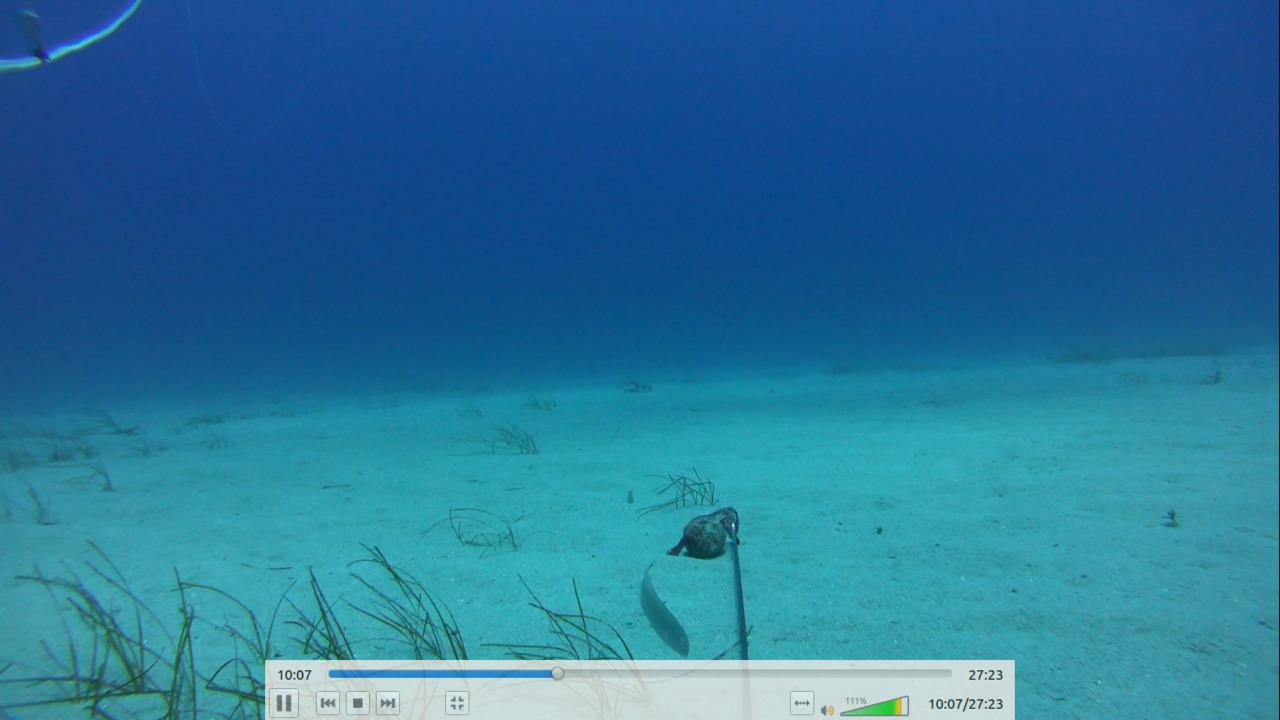raor: (632, 555, 699, 656)
